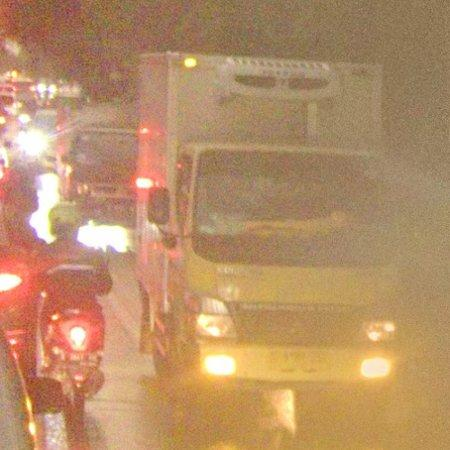motorcycles: (39, 265, 105, 450)
